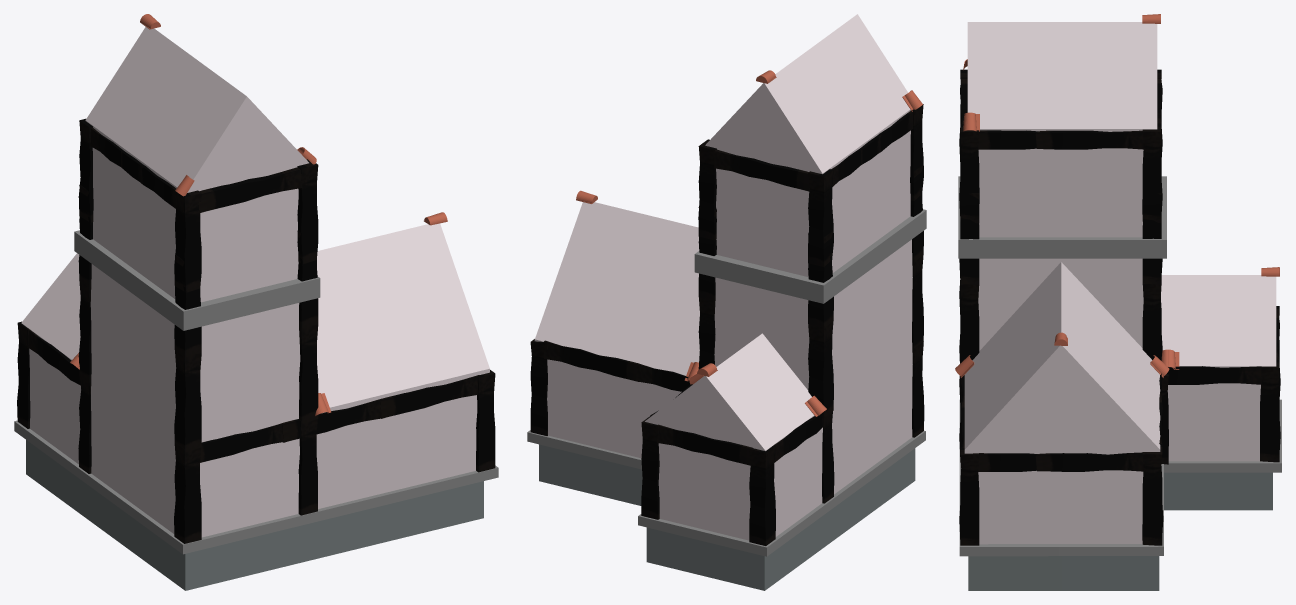
Rendered from house1.glb.
3 views of the same model, side by side, from view 1: azimuth 30°, elevation 25°; view 2: azimuth 150°, elevation 25°; view 3: azimuth 270°, elevation 25° (orthographic). The views are drawn at different scales.
Visible parts, largest first — view 1: Plane, Cube.013, Cube.011, Cube.010, Cube.033, Cube.025, Cube.009, Cube.005, Cube.007, Cube.006, Cube.026, Cube.027 (+10 smaller); view 2: Plane, Cube.002, Cube.017, Cube.015, Cube.028, Cube.022, Cube.001, Cube.023, Cube.021, Cube.004, Cube.016, Cube.013 (+10 smaller); view 3: Plane, Cube.032, Cube.035, Cube.004, Cube.001, Cube.005, Cube.021, Cube.009, Cube.037, Cube.007, Cube.019, Cube.031 (+4 smaller).
Part boxes in pixels (<box>): Plane: <box>14,27,498,590</box>; Cube.013: <box>174,190,201,292</box>; Cube.011: <box>174,351,201,452</box>; Cube.010: <box>174,442,201,543</box>; Cube.033: <box>198,167,302,213</box>; Cube.025: <box>380,375,480,418</box>; Cube.009: <box>297,159,318,263</box>; Cube.005: <box>476,370,495,472</box>; Cube.007: <box>299,324,318,423</box>; Cube.006: <box>298,419,317,515</box>; Cube.026: <box>281,398,382,442</box>; Cube.027: <box>200,423,283,462</box>; Plane: <box>527,14,926,590</box>; Cube.002: <box>749,445,775,545</box>; Cube.017: <box>808,169,833,266</box>; Cube.015: <box>808,321,833,417</box>; Cube.028: <box>714,149,809,191</box>; Cube.022: <box>657,424,752,465</box>; Cube.001: <box>641,416,659,519</box>; Cube.023: <box>544,340,638,381</box>; Cube.021: <box>698,139,716,240</box>; Cube.004: <box>530,339,547,435</box>; Cube.016: <box>808,231,833,327</box>; Cube.013: <box>910,104,923,200</box>; Plane: <box>958,22,1281,590</box>; Cube.032: <box>1035,130,1143,149</box>; Cube.035: <box>1035,452,1146,471</box>; Cube.004: <box>1142,443,1163,545</box>; Cube.001: <box>1260,359,1280,462</box>; Cube.005: <box>959,447,979,545</box>; Cube.021: <box>1142,123,1162,223</box>; Cube.009: <box>959,124,979,223</box>; Cube.037: <box>1166,366,1261,384</box>; Cube.007: <box>959,284,979,363</box>; Cube.019: <box>1142,283,1162,360</box>; Cube.031: <box>978,130,1037,149</box>.
Bounding box in the file's own units: 3.68 × 5.38 × 3.42.
5 materials, 2 textured.
